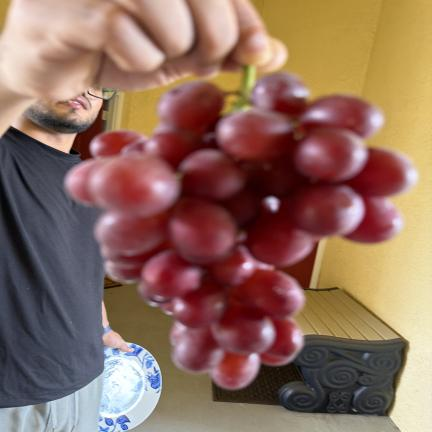grape_cluster: (64, 66, 417, 390)
